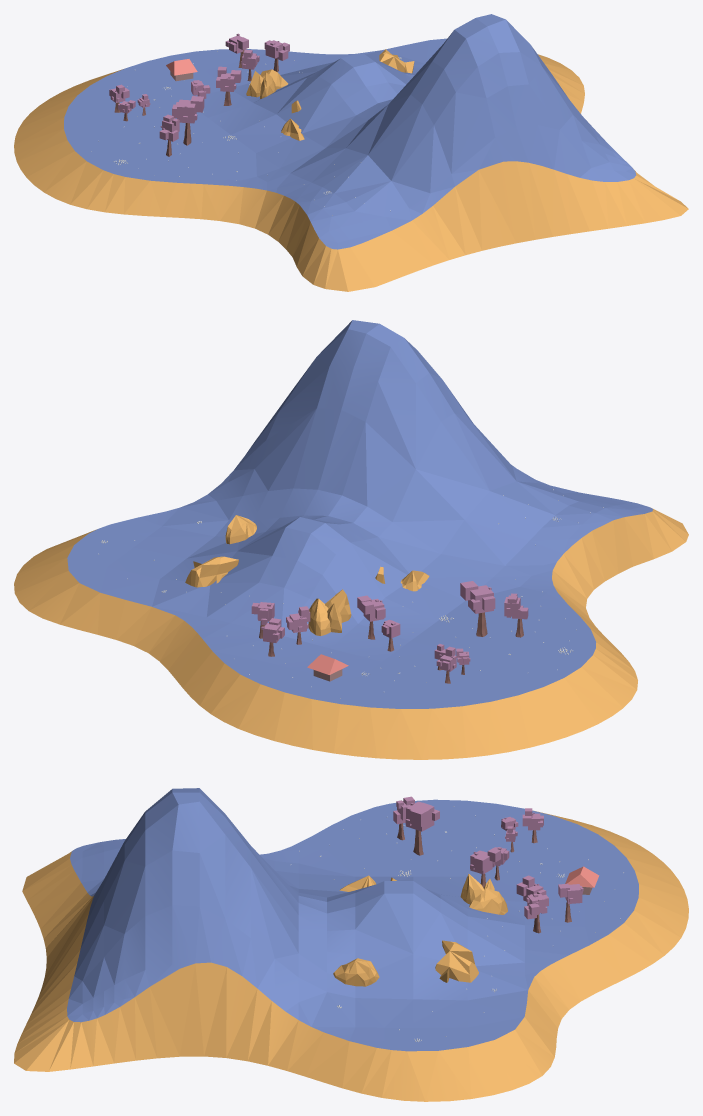
3 views of the same model, one above another, from view 1: azimuth 30°, elevation 25°; view 2: azimuth 150°, elevation 25°; view 3: azimuth 270°, elevation 25° (orthographic). The views are drawn at different scales.
Parts seen in each view (by area): view 1: base, Object_13, Object_12, Object_6, Object_11, Object_15; view 2: base, Object_13, Object_15, Object_12; view 3: base, Object_15, Object_13, Object_14, Object_12, Object_6, Object_8.
Part boxes in pixels (x1,y1,x2,y2): base: (14, 14, 688, 291); Object_13: (246, 69, 288, 98); Object_12: (172, 96, 204, 123); Object_6: (216, 66, 241, 91); Object_11: (159, 114, 179, 141); Object_15: (379, 49, 414, 73); base: (14, 320, 688, 759); Object_13: (308, 589, 351, 635); Object_15: (185, 556, 238, 587); Object_12: (460, 581, 495, 613); base: (14, 788, 688, 1101); Object_15: (435, 940, 478, 982); Object_13: (460, 874, 507, 914); Object_14: (333, 958, 379, 986); Object_12: (405, 801, 439, 831); Object_6: (470, 848, 500, 874); Object_8: (524, 893, 548, 919).
Size of the model in its own units: 0.1143 by 0.0358 by 0.1098.
